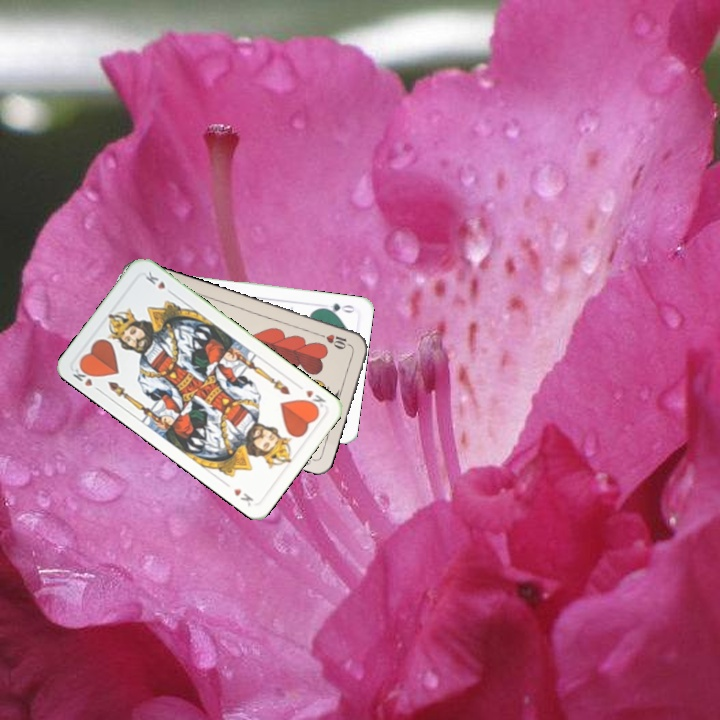GO: (317, 299, 357, 316)
H10: (314, 329, 354, 351)
HK: (69, 361, 104, 395), (300, 386, 328, 414)
